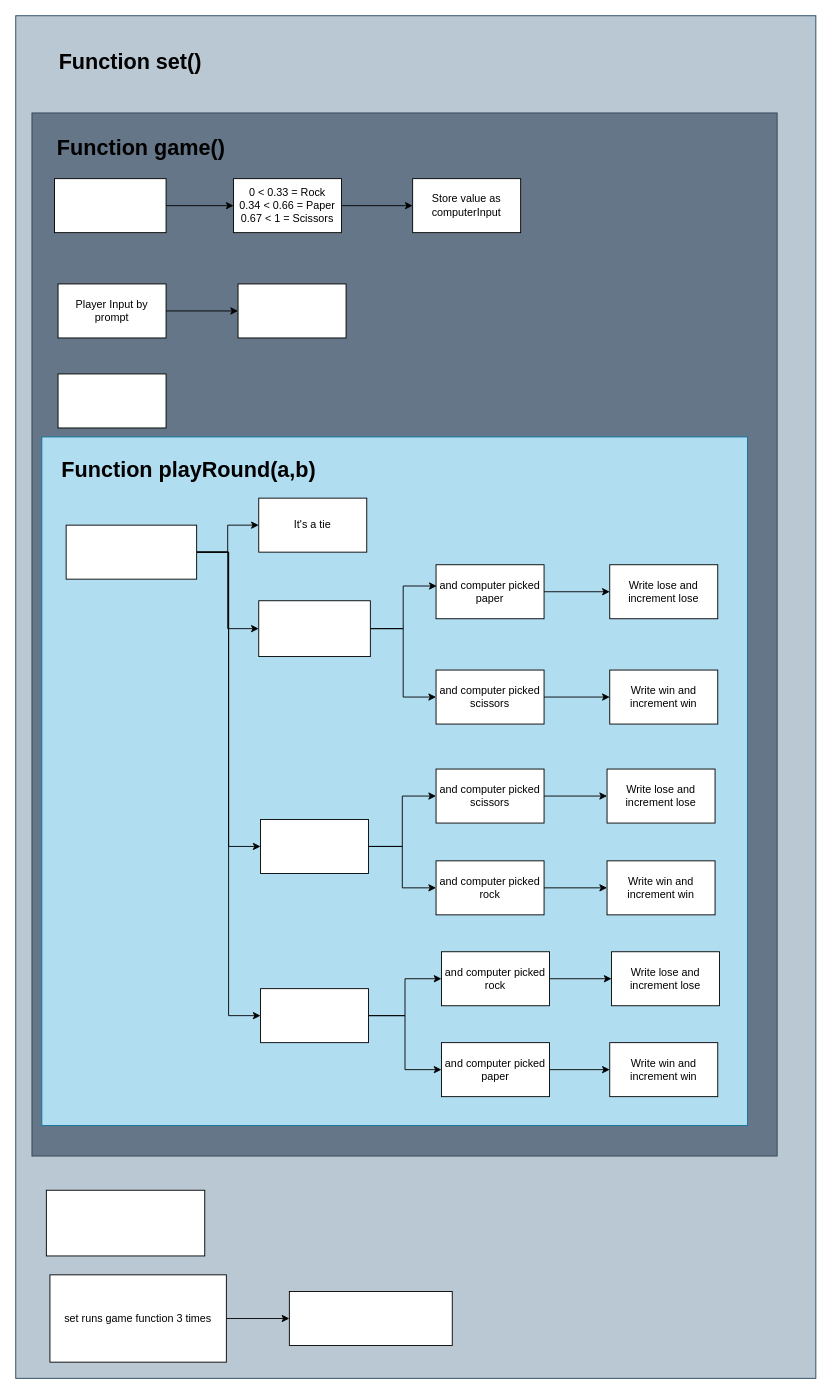
Some shapes in this 832 by 1394 pixel diagram are drawn without their labels. Each missing label, with the box of its shape:
Computer Input using Math.random(): (54, 178, 166, 233)
else if player picked paper: (260, 819, 369, 873)
else if player picked rock: (258, 600, 370, 657)
else if player picked scissor: (260, 988, 369, 1043)
If player input matches computer input: (65, 524, 197, 579)
if wins> loses write congrats: (288, 1291, 452, 1346)
make it lower case: (237, 283, 346, 338)
Store Variables Store wins and loses = 0 store string messages: (45, 1189, 205, 1256)
Variable guess for string message: (57, 373, 166, 428)
